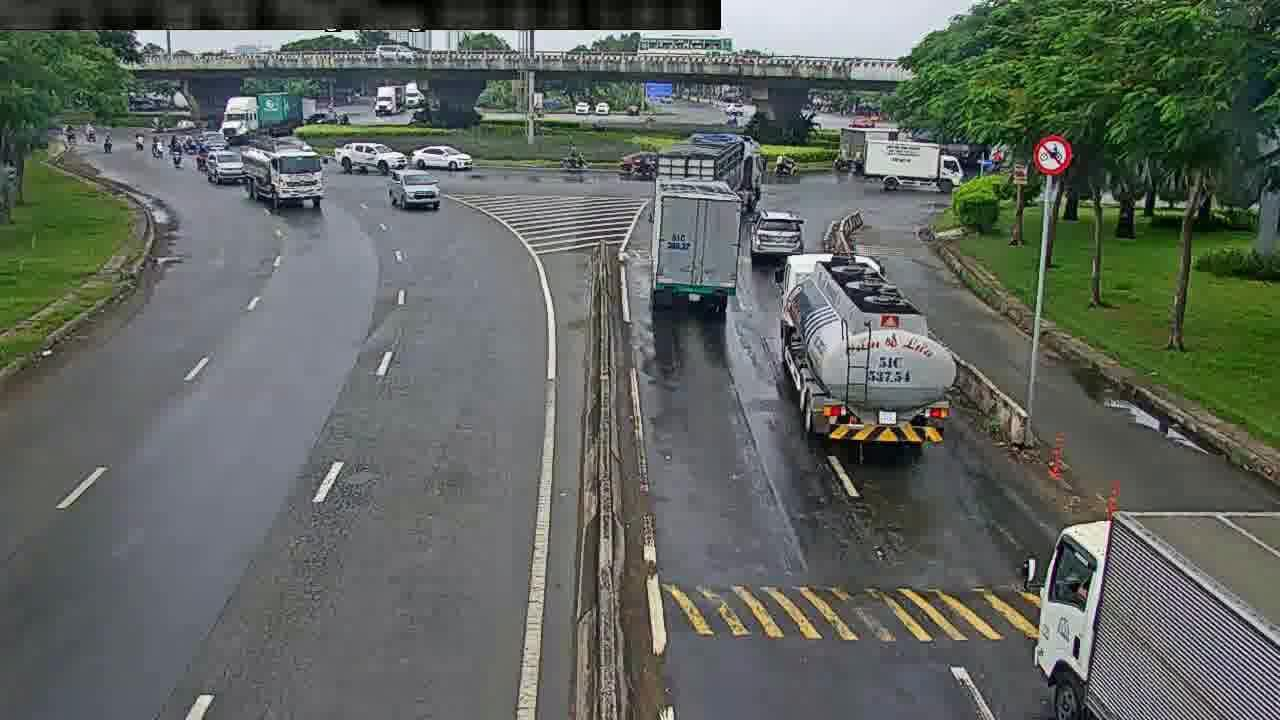8: (768, 248, 969, 451), (641, 175, 748, 302), (654, 131, 766, 193), (238, 141, 331, 211)
container: (743, 200, 812, 265), (388, 171, 438, 215), (410, 143, 477, 172)
